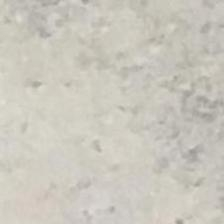Non_Crack: (27, 40, 213, 193)
